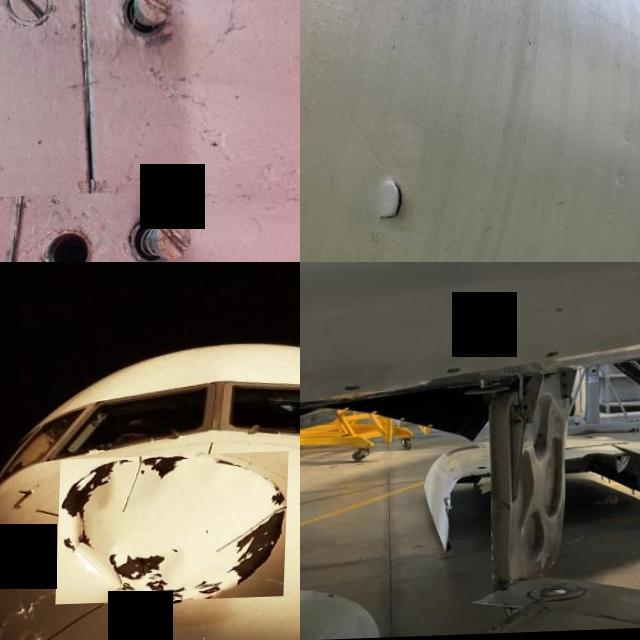Crack: (364, 170, 418, 236)
Dent: (62, 459, 289, 602)
Missing_Fastener: (0, 195, 115, 262), (450, 367, 470, 379), (544, 352, 564, 364), (346, 385, 366, 395)
